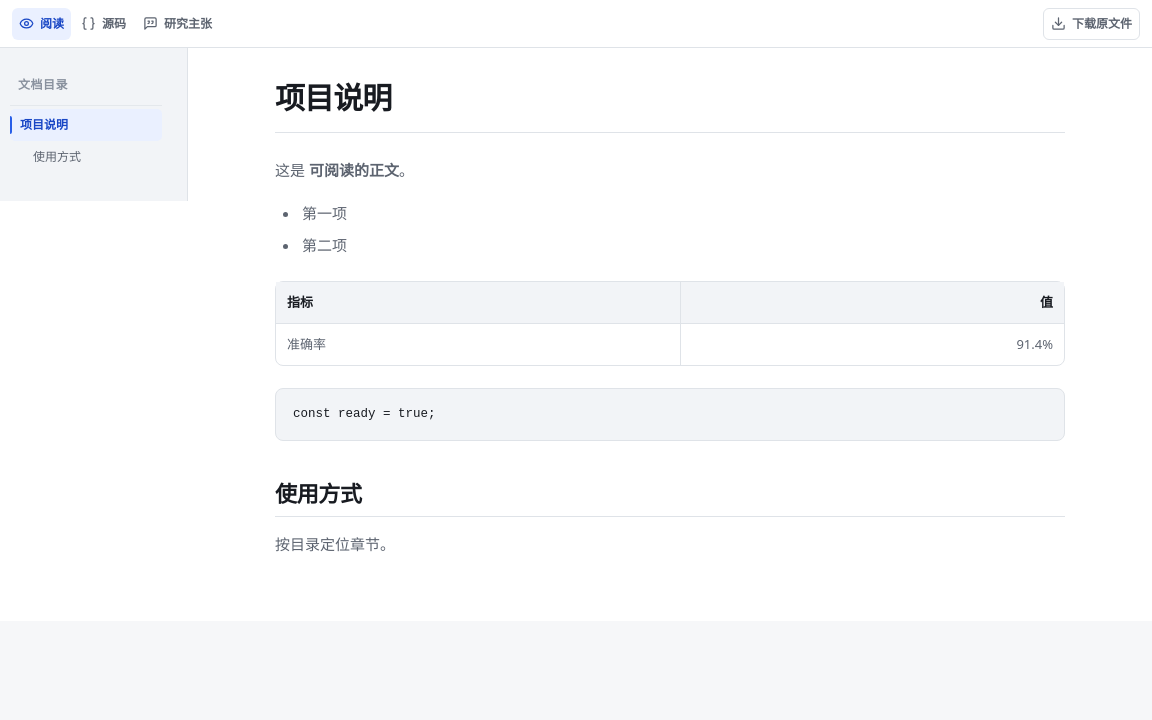
Scenario: DocumentPreview › switches between rendered Markdown, source text, and claims
Click the button "源码" at [104, 24], box [74,8,133,40]
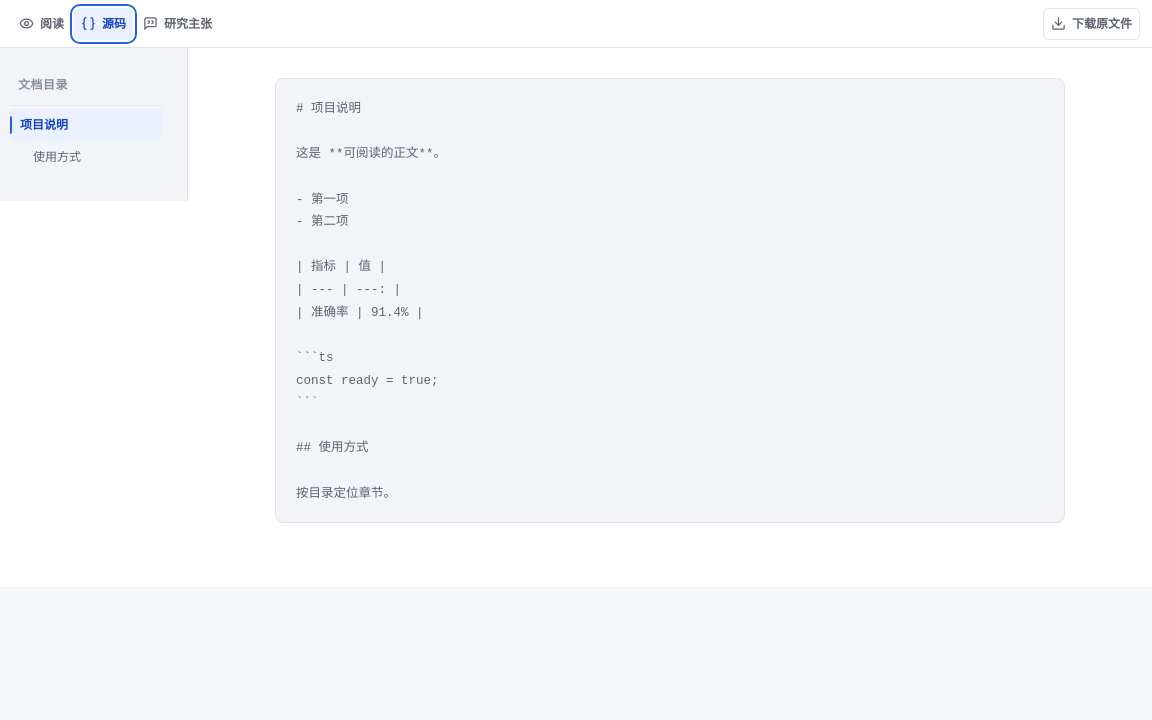
Now the element with class "document-source" shows "# 项目说明", box [296,102,446,501]
Click the button "研究主张" at [178, 24], box [136,8,219,40]
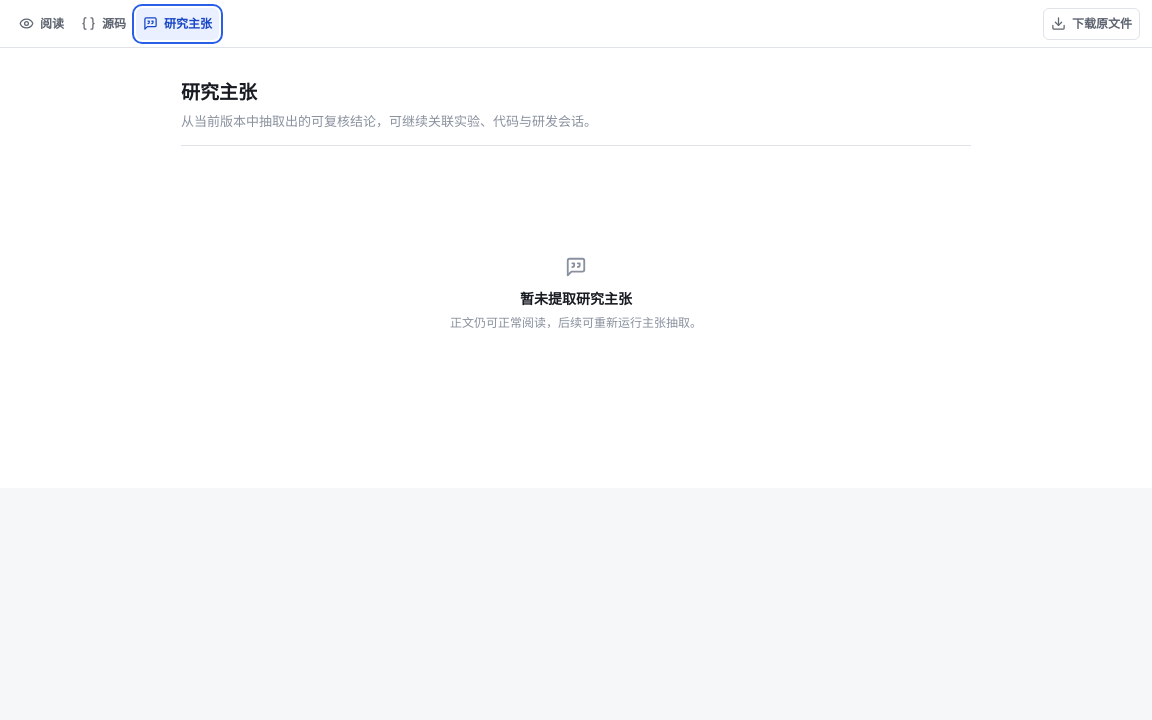
Now the text "暂未提取研究主张" is shown, box [520,288,632,309]
